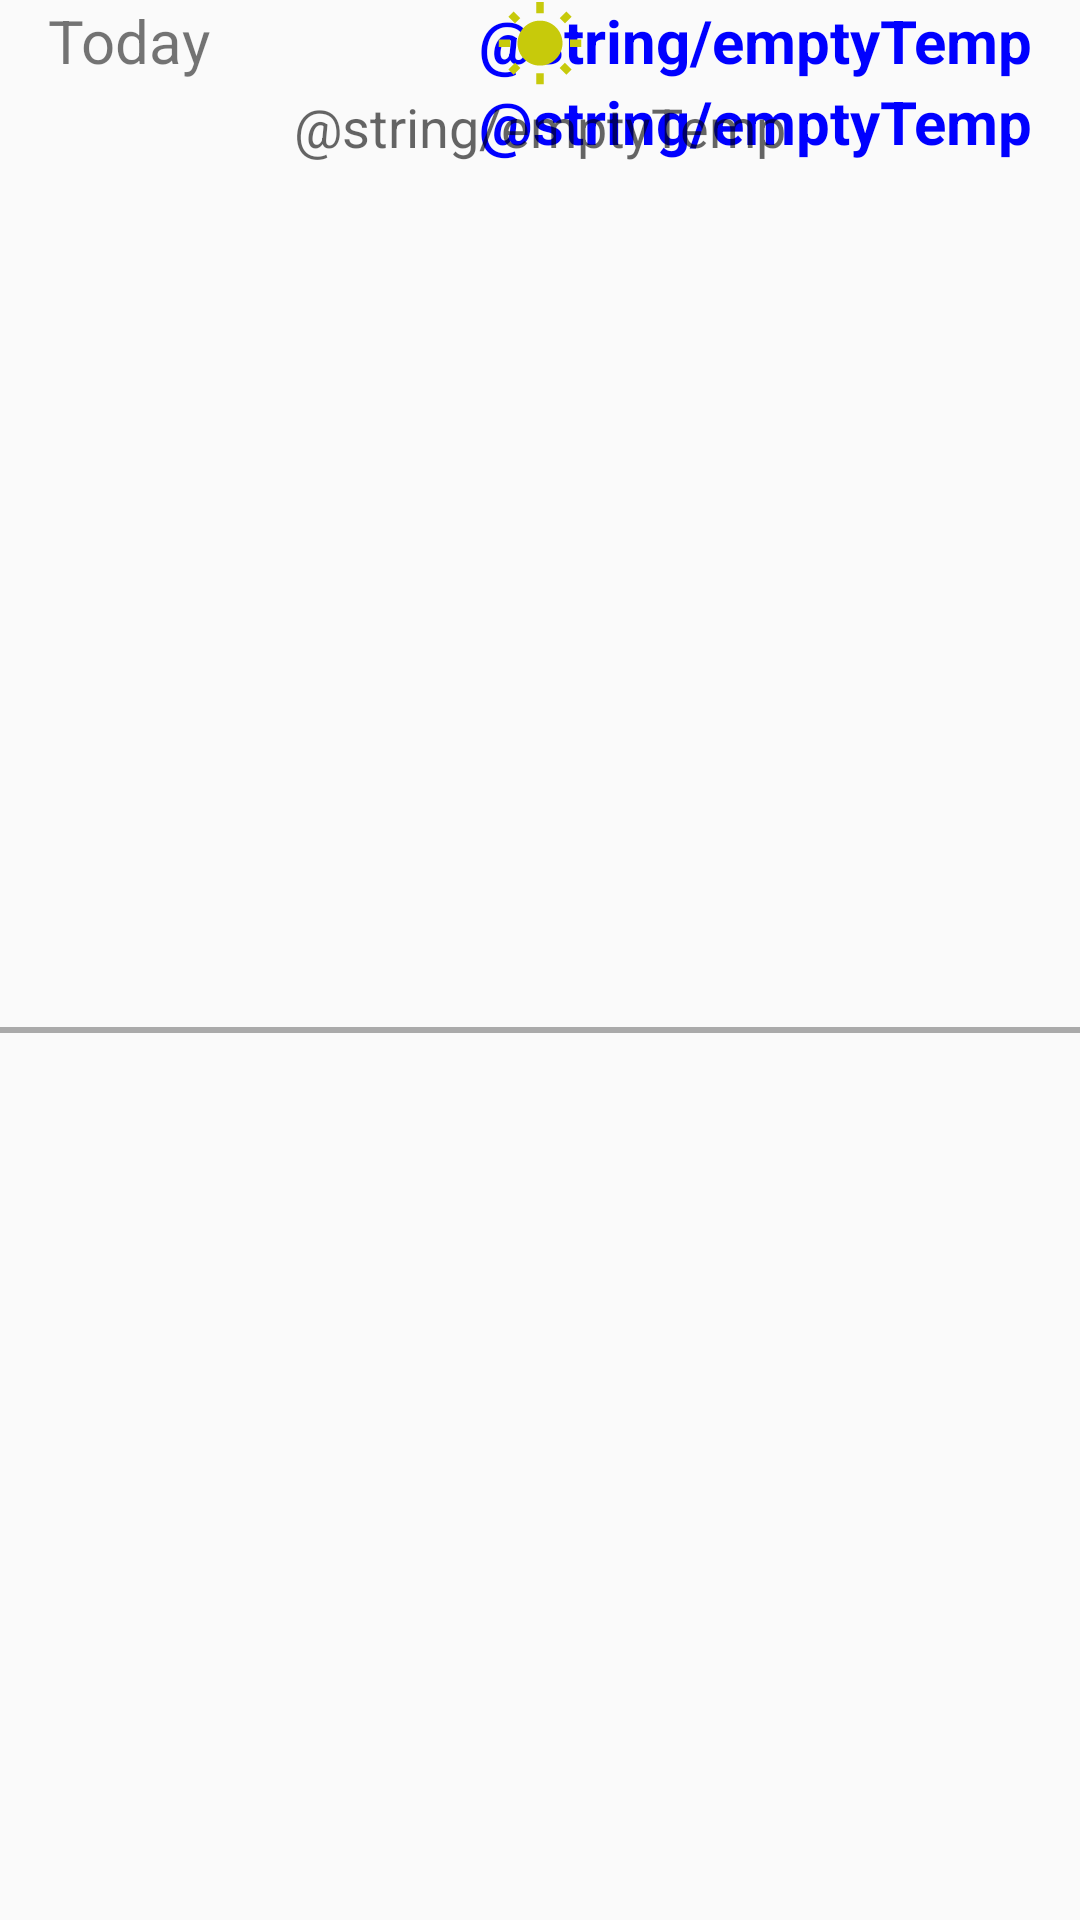

Where icons sit on this 1080px×1920px app screen, as (x1, y1, x2, y2):
sunny: (495, 2, 584, 85)
